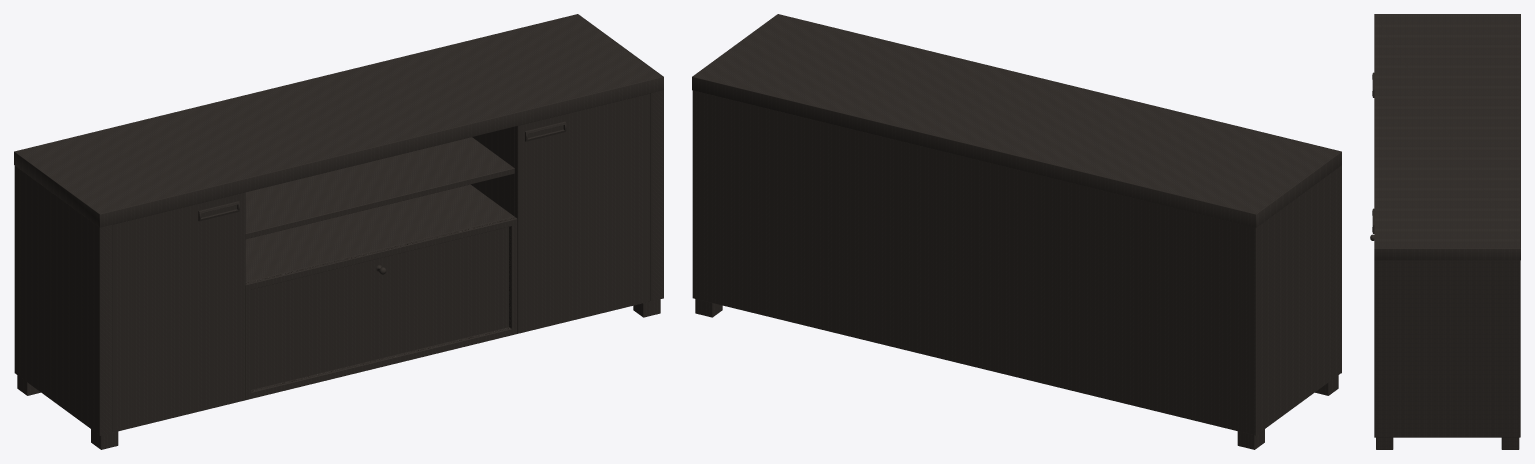
Rendered from mesita.glb.
3 renders of one model, left to right at view 1: azimuth 30°, elevation 25°; view 2: azimuth 150°, elevation 25°; view 3: azimuth 270°, elevation 25°, orthographic. The views are drawn at different scales.
Visible parts, largest first — view 1: mesita; view 2: mesita; view 3: mesita.
Part boxes in pixels (left/top/right/bottom): mesita: left=14, top=14, right=663, bottom=449; mesita: left=692, top=14, right=1341, bottom=449; mesita: left=1370, top=14, right=1520, bottom=449.
Size of the model in its own units: 1.68 by 0.6731 by 0.4545.
Materials: 1 (1 with a texture image).
